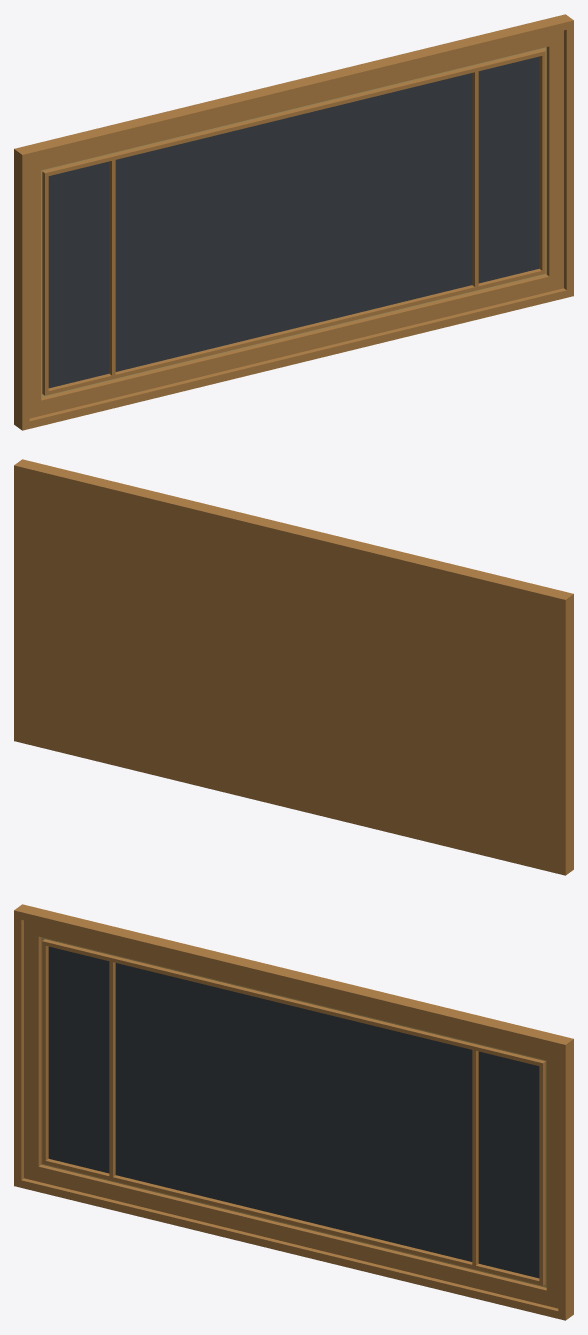
Rendered from chalkboard.fbx.
3 views of the same model, one above another, from view 1: azimuth 30°, elevation 25°; view 2: azimuth 150°, elevation 25°; view 3: azimuth 330°, elevation 25° (orthographic).
Visible parts, largest first — view 1: Chalkboard; view 2: Chalkboard; view 3: Chalkboard.
Boxes of the visible parts, bbox=[...] form: Chalkboard: bbox=[14, 14, 573, 430]; Chalkboard: bbox=[14, 459, 573, 875]; Chalkboard: bbox=[14, 904, 573, 1320].
Bounding box in the file's own units: 380 × 181 × 10.
